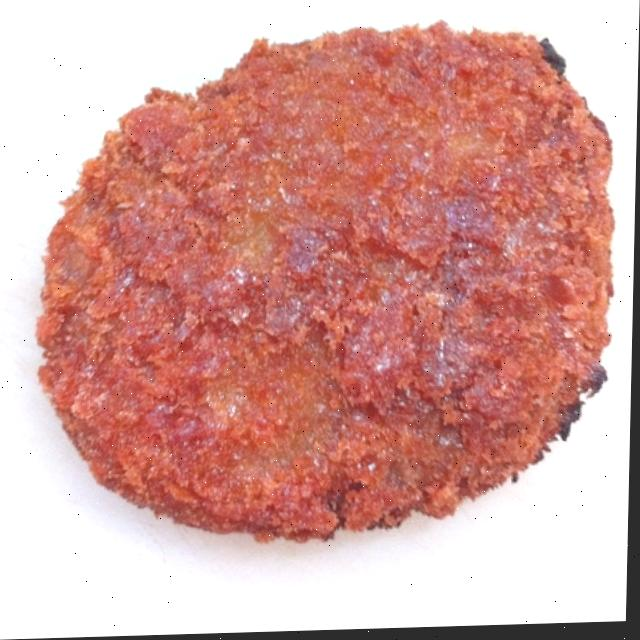炸货点心: (10, 0, 636, 579)
